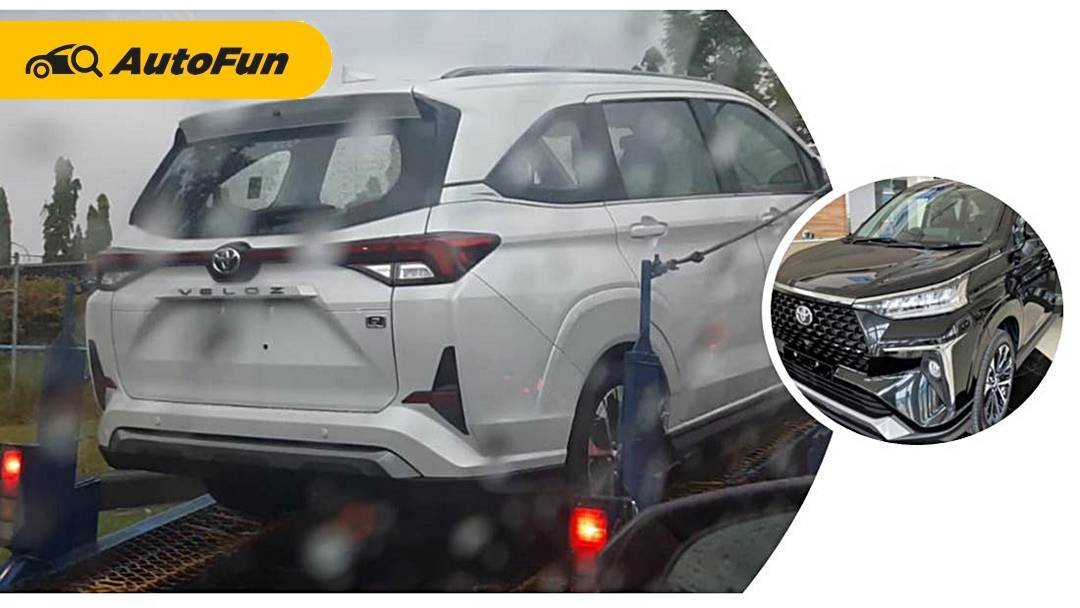mobil: (86, 69, 858, 537)
